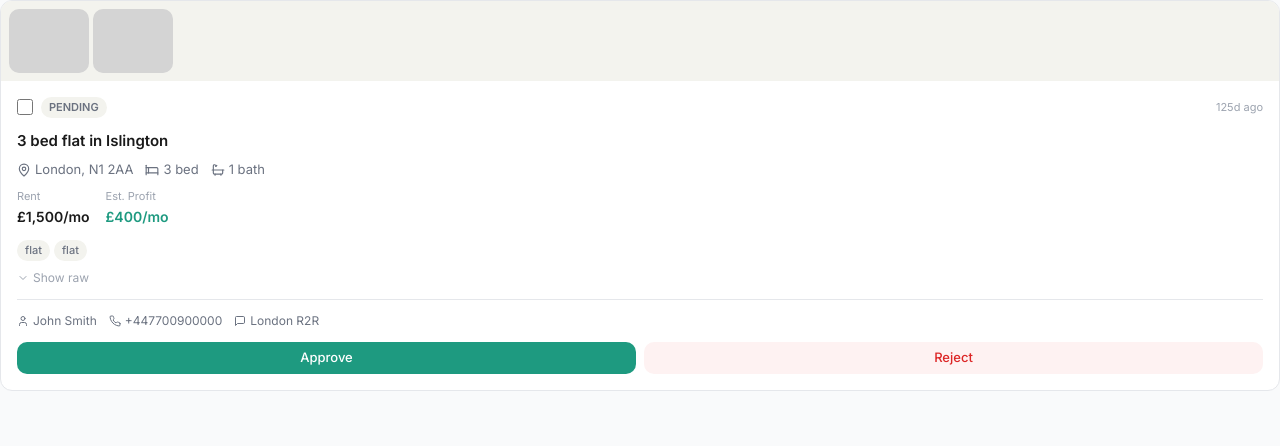
DealCard › toggles raw text visibility
The width and height of the screenshot is (1280, 446).
// Raw text should be hidden by default when parsed data exists
Click the button "Show raw": [53, 278] box 17,268 -> 89,286
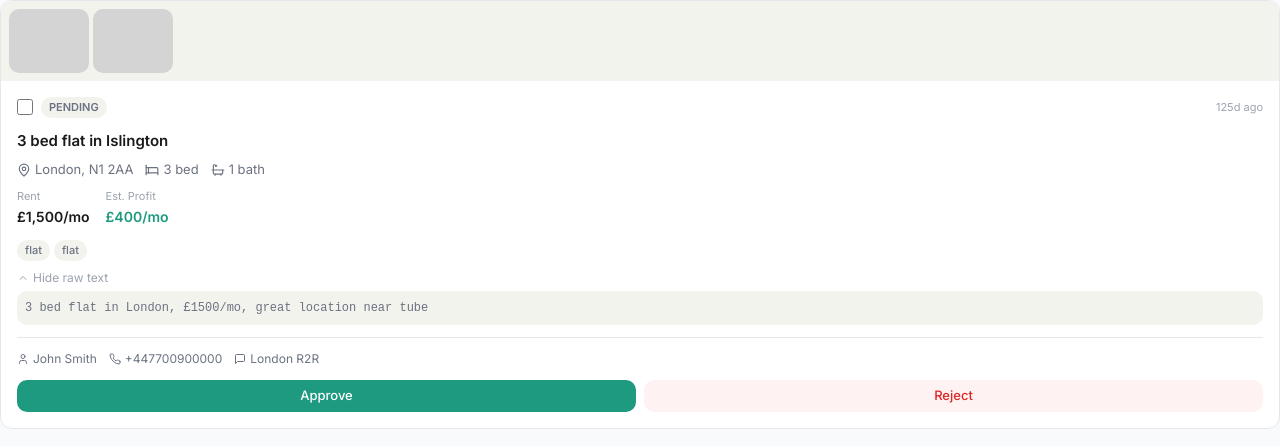
Now the text "3 bed flat in London, £1500/mo, great location near tube" is shown, box 17,290 -> 1263,324
